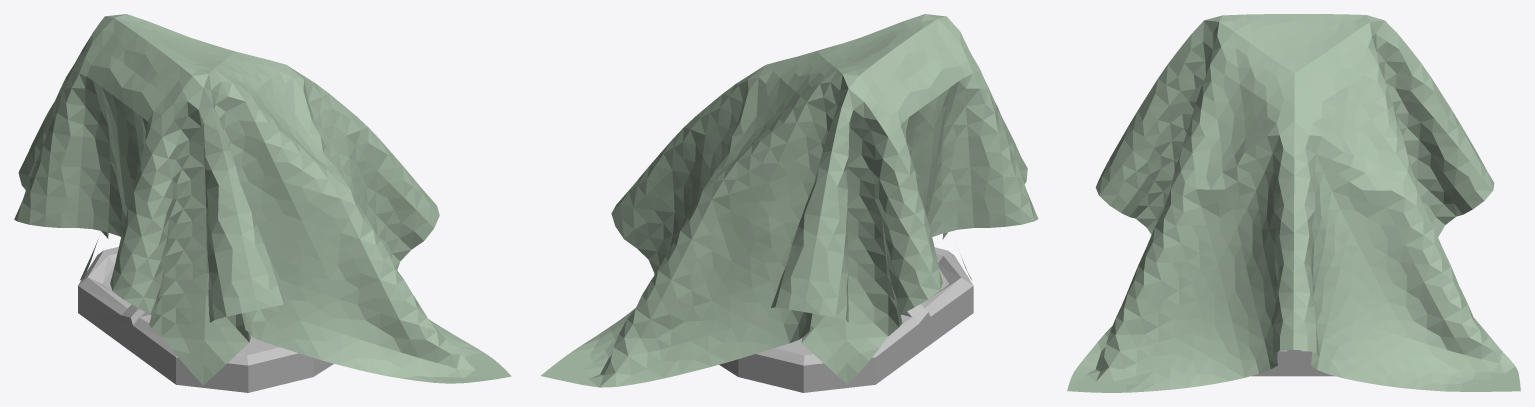
The model's file is level_1.glb.
The picture shows the model from 3 angles, left to right: view 1: azimuth 30°, elevation 25°; view 2: azimuth 150°, elevation 25°; view 3: azimuth 270°, elevation 25°; orthographic projection. The views are drawn at different scales.
Visible parts, largest first — view 1: world, object.obj; view 2: world, object.obj; view 3: world, object.obj.
Part boxes in pixels (<box>): world: <box>14,14,511,385</box>; object.obj: <box>78,246,333,392</box>; world: <box>541,14,1038,387</box>; object.obj: <box>719,247,973,392</box>; world: <box>1067,14,1520,392</box>; object.obj: <box>1251,350,1334,376</box>.
Bounding box in the file's own units: 0.397 × 0.3031 × 0.4575.
